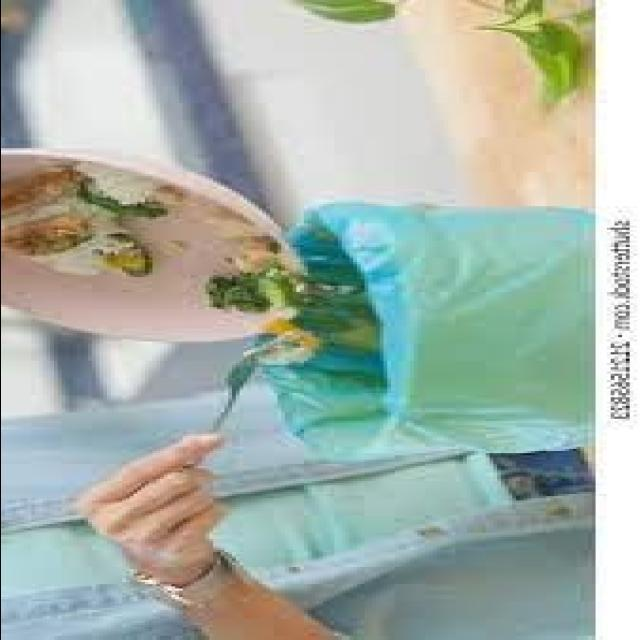Garbage: (0, 151, 299, 341)
contaminated_waste: (0, 162, 164, 276)
